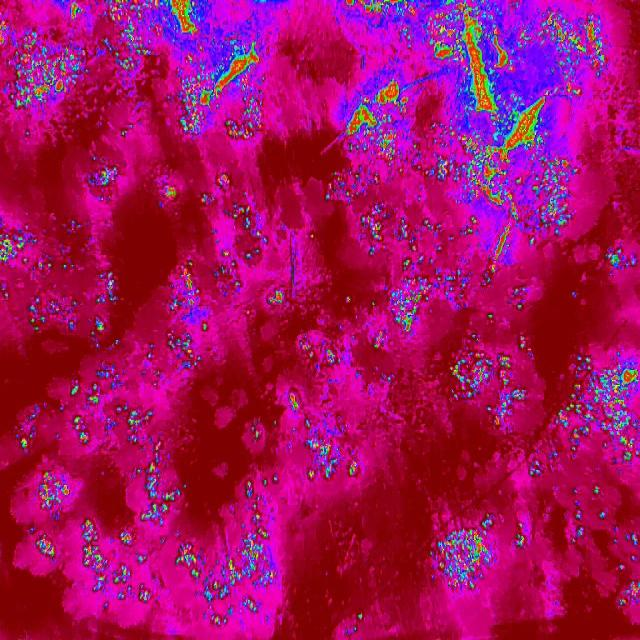fire: (0, 165, 370, 640), (316, 0, 596, 285), (99, 0, 285, 145), (527, 344, 640, 477), (441, 292, 540, 440), (0, 0, 100, 120), (416, 510, 530, 604), (570, 481, 640, 624), (356, 257, 466, 347), (605, 244, 640, 278)
